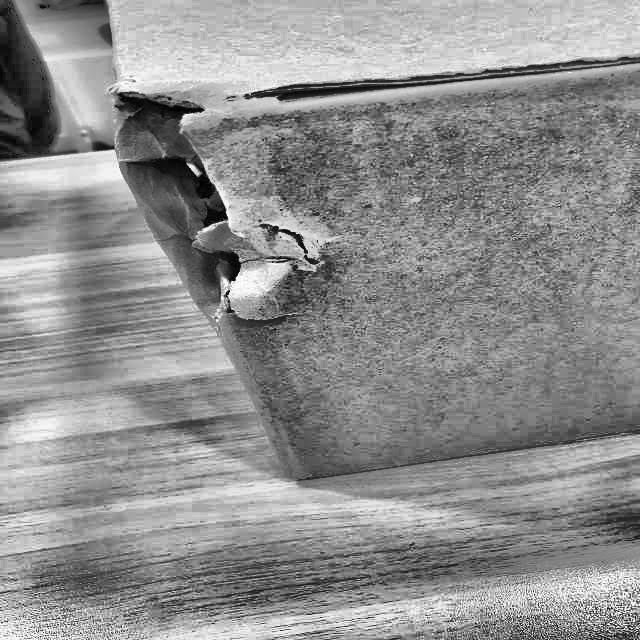box: (96, 0, 639, 498)
hole: (116, 83, 324, 314)
